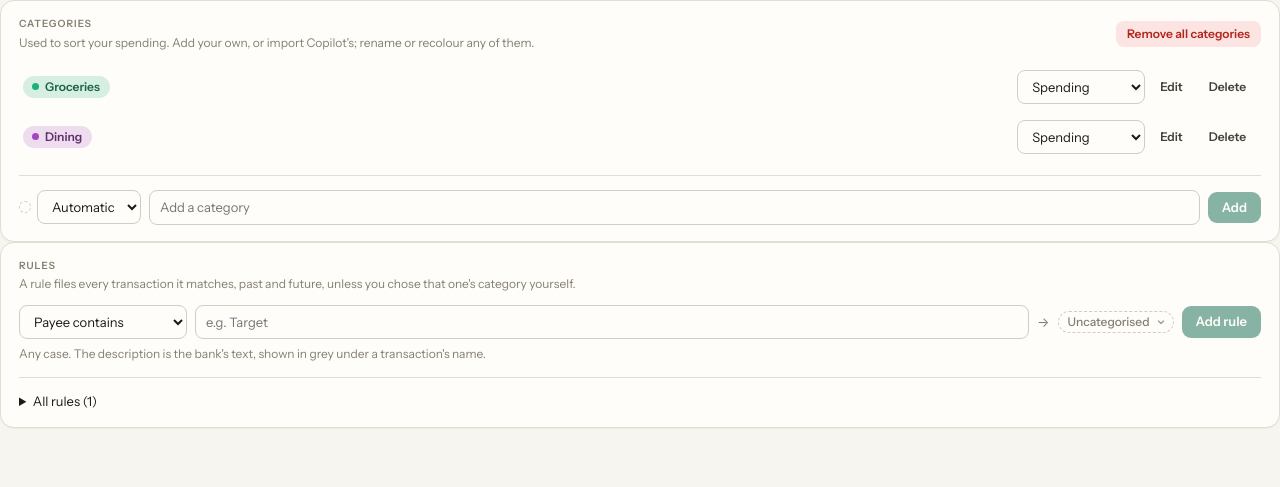
Test: CategoriesCard › keeps the rule list folded away until it is opened
Click the heading "All rules (1)" at (65, 401), box x1=33 y1=393 x2=97 y2=409
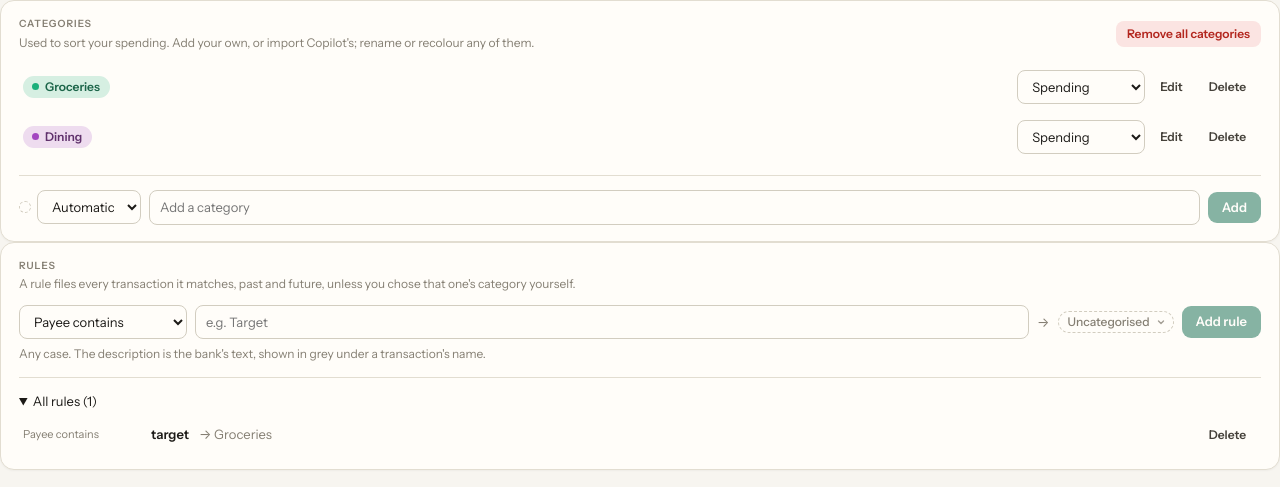
Expected: the text "Payee contains" is shown, x1=23 y1=427 x2=99 y2=441
Expected: the text "→ Groceries" is shown, x1=199 y1=426 x2=272 y2=444
